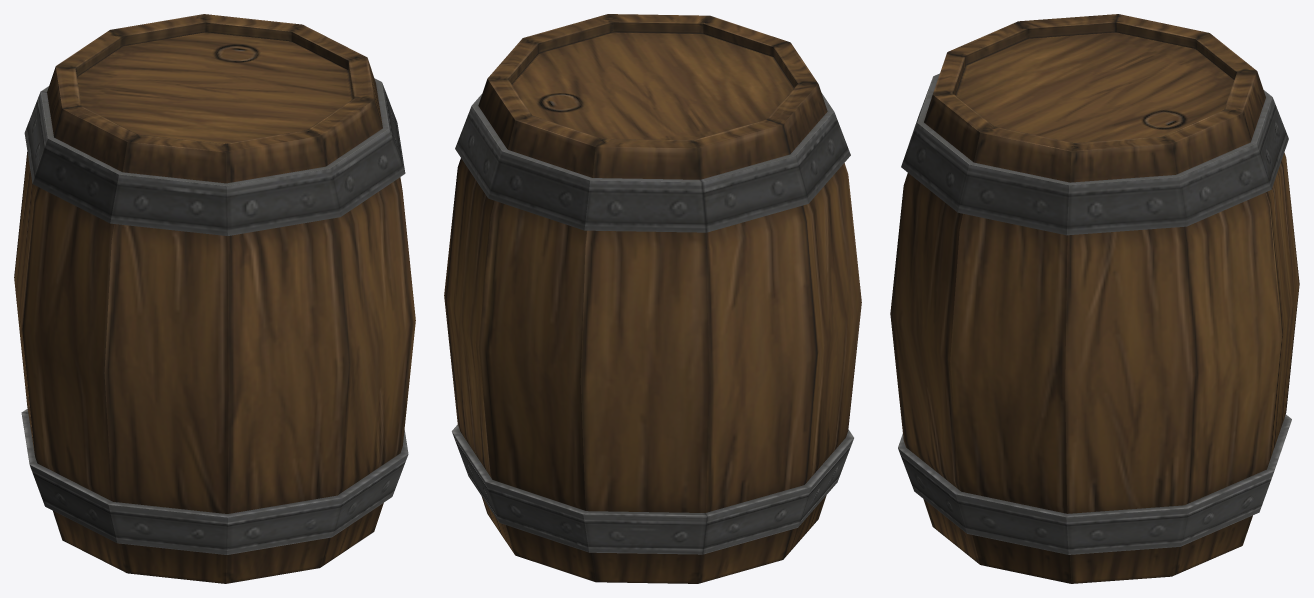
The model's file is modelBarrel.fbx.
3 views of the same model, side by side, from view 1: azimuth 30°, elevation 25°; view 2: azimuth 150°, elevation 25°; view 3: azimuth 270°, elevation 25° (orthographic).
Visible parts, largest first — view 1: modelBarrel; view 2: modelBarrel; view 3: modelBarrel.
Boxes of the visible parts, box(x1,y1,x2,y2) form: modelBarrel: box(14, 14, 415, 583); modelBarrel: box(444, 14, 861, 583); modelBarrel: box(890, 14, 1299, 583).
Bounding box in the file's own units: 6.89 × 8 × 6.86.
